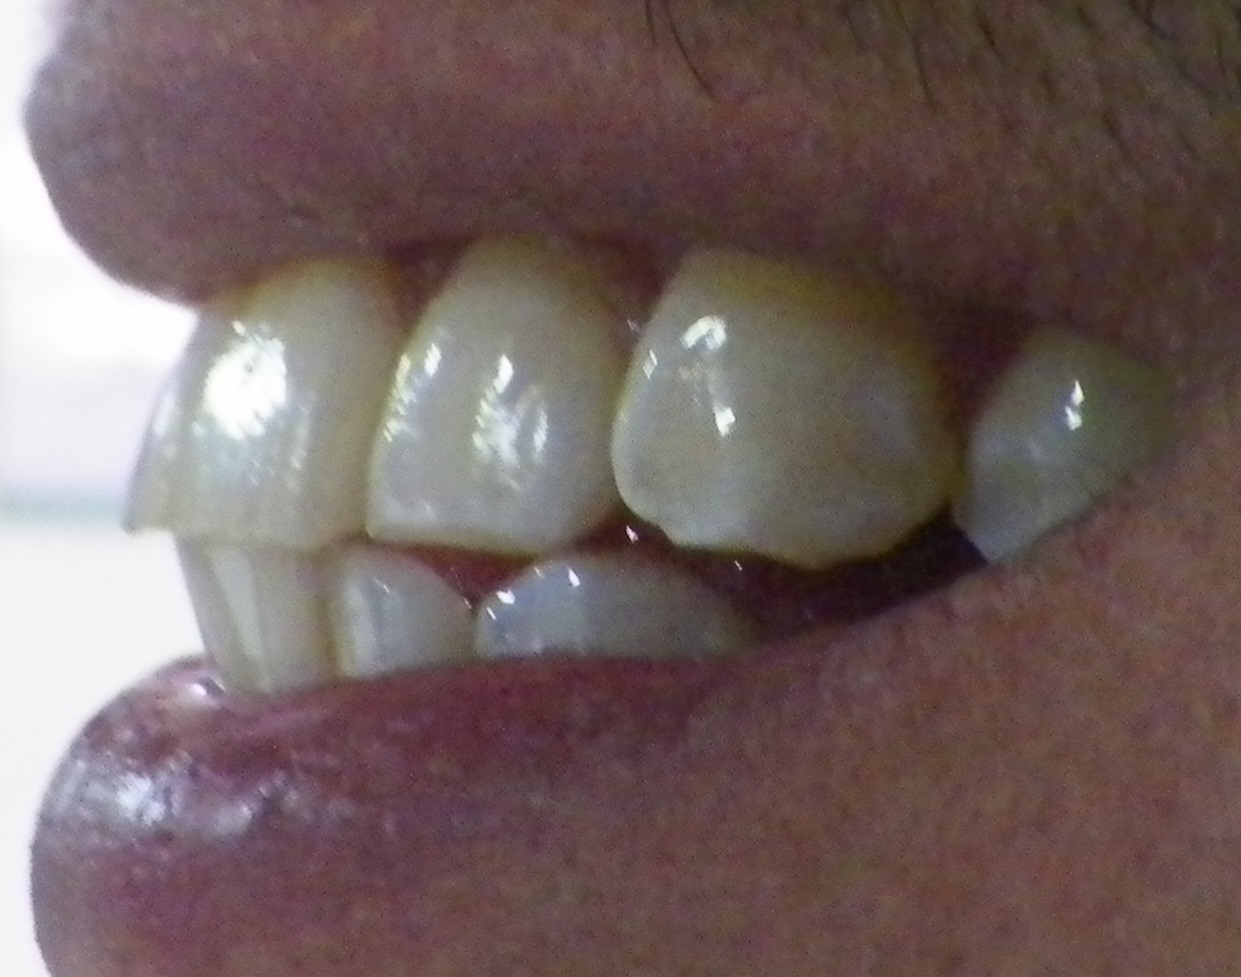boca: (120, 261, 1097, 712)
